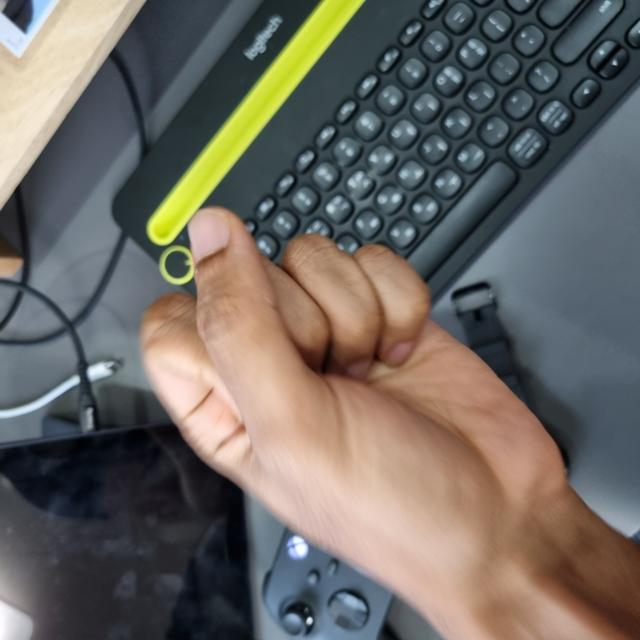Rock: (7, 141, 428, 565)
